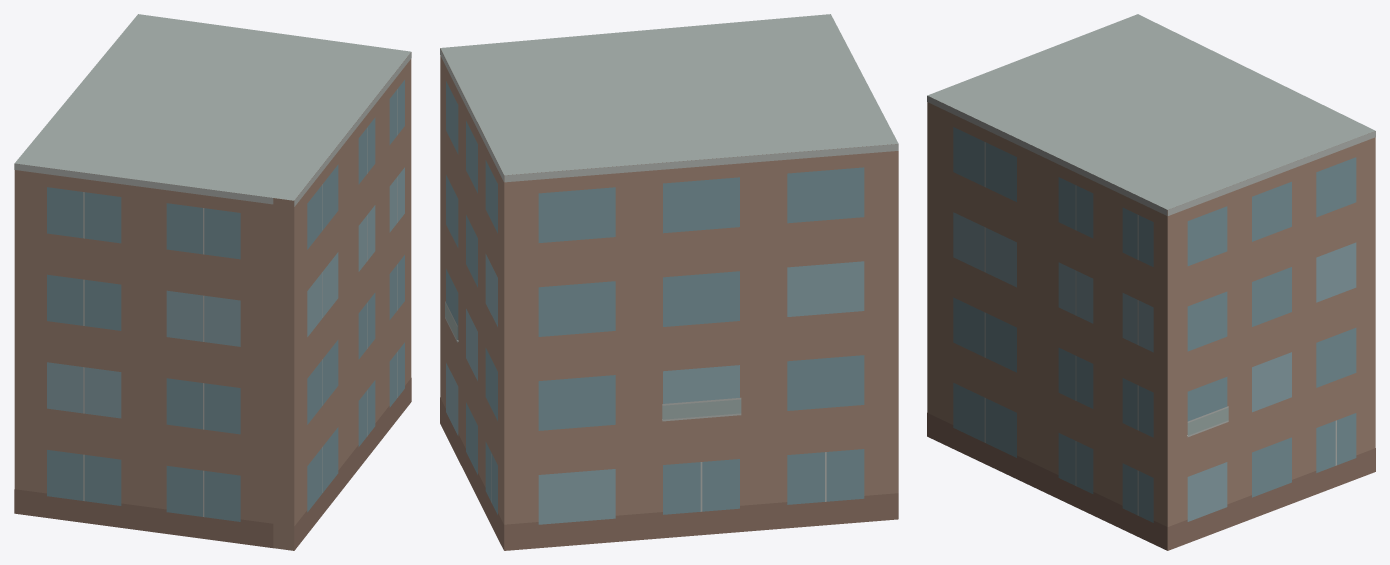
The model's file is survey-upis-32833249.glb.
3 views of the same model, side by side, from view 1: azimuth 30°, elevation 25°; view 2: azimuth 150°, elevation 25°; view 3: azimuth 270°, elevation 25° (orthographic). The views are drawn at different scales.
Visible parts, largest first — view 1: survey-upis-32833249.tmp; view 2: survey-upis-32833249.tmp; view 3: survey-upis-32833249.tmp.
Part boxes in pixels (x1,y1,x2,y2): survey-upis-32833249.tmp: [14, 14, 411, 550]; survey-upis-32833249.tmp: [440, 14, 898, 550]; survey-upis-32833249.tmp: [927, 14, 1375, 550].
Size of the model in its own units: 16.15 by 13.1 by 15.63.
